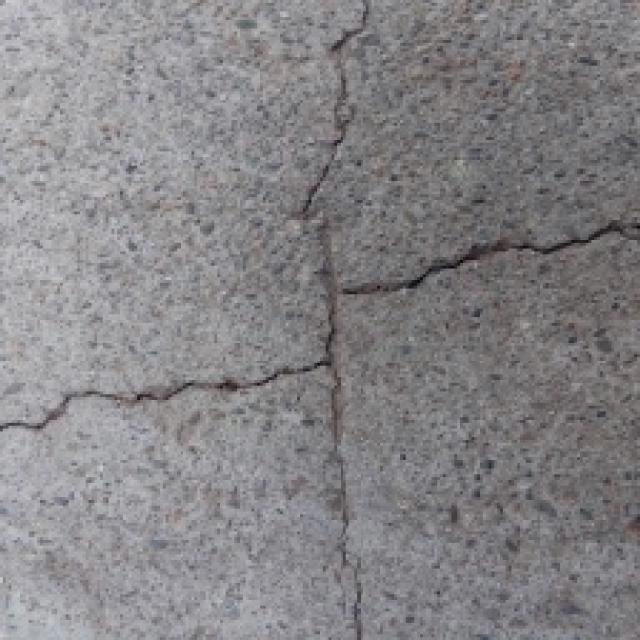crack: (274, 0, 408, 640), (2, 320, 366, 460), (300, 226, 640, 328)
